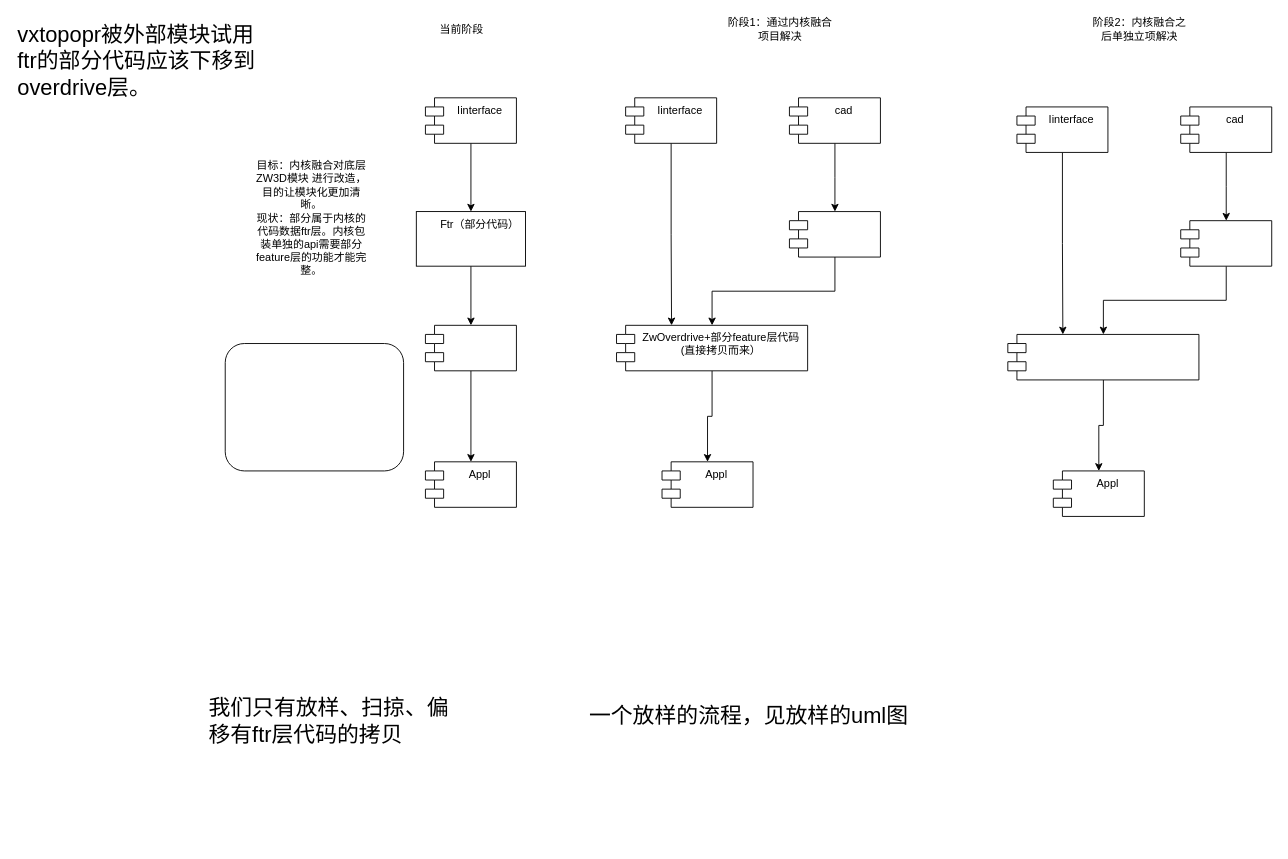
The diagram is 1288 pixels wide and 859 high, and some of its shapes have lost their labels. The shapes that lost their labels are listed below. From the top down, each one's centre as x and y in pixels, then its label:
At point 834,234: "Ftr（代码保持不变）".
At point 1226,243: "Ftr（删除应该属于内核的代码）".
At point 470,347: "ZwOverdrive".
At point 1103,357: "ZwOverdrive+部分feature层代码融入overdrive或者下沉到appl".
At point 314,407: "当前modeller，作为interface和overdrive的转接层应该仅仅处理数据转换不直接建模，类似已经合并到项目分支的圆角功能".
